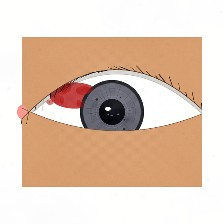hemorrhage_spot: (40, 68, 109, 123)
